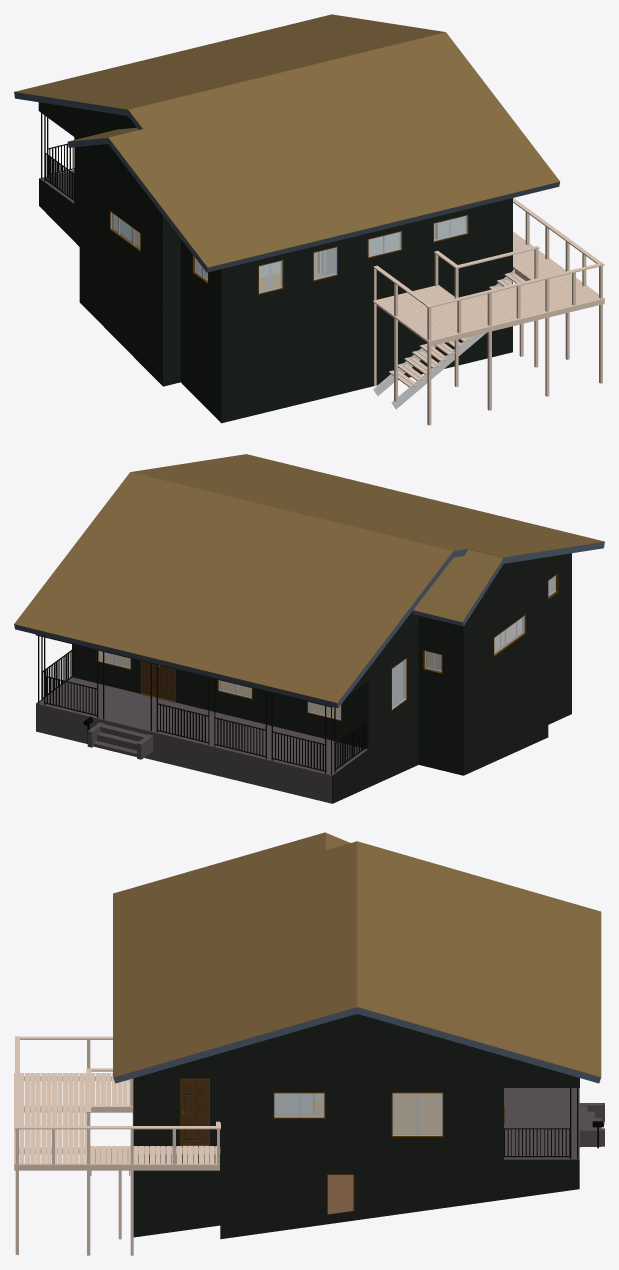
The model's file is tbcHouse-01.fbx.
The picture shows the model from 3 angles, top to bottom: view 1: azimuth 30°, elevation 25°; view 2: azimuth 150°, elevation 25°; view 3: azimuth 270°, elevation 25°; orthographic projection. The views are drawn at different scales.
Parts seen in each view (by area): view 1: 4x8ExteriorWall.083, 4x8ExteriorWall.061, 4x8ExteriorWall.023, 4x8ExteriorWall.035, 4x8ExteriorWall.043, RoofSheet5.003, RoofSheet1.019, RoofSheet1.012, RoofSheet1.013, RoofSheet1.015, RoofSheet1.014, RoofSheet1.018 (+81 smaller); view 2: FrontPorchSlab, FrontPorch01, 4x8ExteriorWall.061, RoofSheet1.020, 4x8ExteriorWall.081, 4x8ExteriorWall.043, RoofSheet10.001, RoofSheet10, RoofSheet5, RoofSheet6, RoofSheet3, RoofSheet4 (+84 smaller); view 3: 4x8ExteriorWall.054, 4x8ExteriorWall.009, FrontPorchSlab, 4x8ExteriorWall, 4x8ExteriorWall.006, 4x8ExteriorWall.066, 4x8ExteriorWall.067, 4x8ExteriorWall.010, 4x8ExteriorWall.064, 4x8ExteriorWall.070, 4x8ExteriorWall.065, 4x8ExteriorWall.063 (+80 smaller).
Boxes of the visible parts, x1=… form: 4x8ExteriorWall.083: x1=221, y1=266, x2=512, y2=423; 4x8ExteriorWall.061: x1=79, y1=144, x2=163, y2=237; 4x8ExteriorWall.023: x1=468, y1=198, x2=512, y2=277; 4x8ExteriorWall.035: x1=221, y1=260, x2=258, y2=337; 4x8ExteriorWall.043: x1=79, y1=177, x2=109, y2=272; RoofSheet5.003: x1=108, y1=123, x2=200, y2=165; RoofSheet1.019: x1=188, y1=225, x2=277, y2=267; RoofSheet1.012: x1=470, y1=156, x2=560, y2=198; RoofSheet1.013: x1=400, y1=173, x2=489, y2=216; RoofSheet1.015: x1=259, y1=208, x2=348, y2=250; RoofSheet1.014: x1=329, y1=190, x2=418, y2=233; RoofSheet1.018: x1=149, y1=174, x2=238, y2=216; FrontPorchSlab: x1=36, y1=677, x2=367, y2=775; FrontPorch01: x1=36, y1=703, x2=331, y2=803; 4x8ExteriorWall.061: x1=463, y1=557, x2=548, y2=647; RoofSheet1.020: x1=413, y1=549, x2=503, y2=622; 4x8ExteriorWall.081: x1=418, y1=713, x2=463, y2=775; 4x8ExteriorWall.043: x1=463, y1=626, x2=493, y2=723; RoofSheet10.001: x1=324, y1=582, x2=415, y2=625; RoofSheet10: x1=285, y1=634, x2=376, y2=677; RoofSheet5: x1=229, y1=651, x2=320, y2=694; RoofSheet6: x1=14, y1=598, x2=104, y2=641; RoofSheet3: x1=86, y1=616, x2=176, y2=659; RoofSheet4: x1=157, y1=633, x2=248, y2=676; 4x8ExteriorWall.054: x1=220, y1=1014, x2=579, y2=1087; 4x8ExteriorWall.009: x1=325, y1=1080, x2=391, y2=1159; FrontPorchSlab: x1=504, y1=1088, x2=579, y2=1159; 4x8ExteriorWall: x1=443, y1=1080, x2=503, y2=1159; 4x8ExteriorWall.006: x1=220, y1=1080, x2=273, y2=1159; 4x8ExteriorWall.066: x1=263, y1=1159, x2=323, y2=1233; 4x8ExteriorWall.067: x1=220, y1=1159, x2=263, y2=1238; 4x8ExteriorWall.010: x1=133, y1=1066, x2=180, y2=1145; 4x8ExteriorWall.064: x1=383, y1=1159, x2=443, y2=1216; 4x8ExteriorWall.070: x1=133, y1=1146, x2=177, y2=1237; 4x8ExteriorWall.065: x1=323, y1=1159, x2=383, y2=1224; 4x8ExteriorWall.063: x1=443, y1=1159, x2=503, y2=1207.
Size of the model in its own units: 1220 by 804 by 1657.
